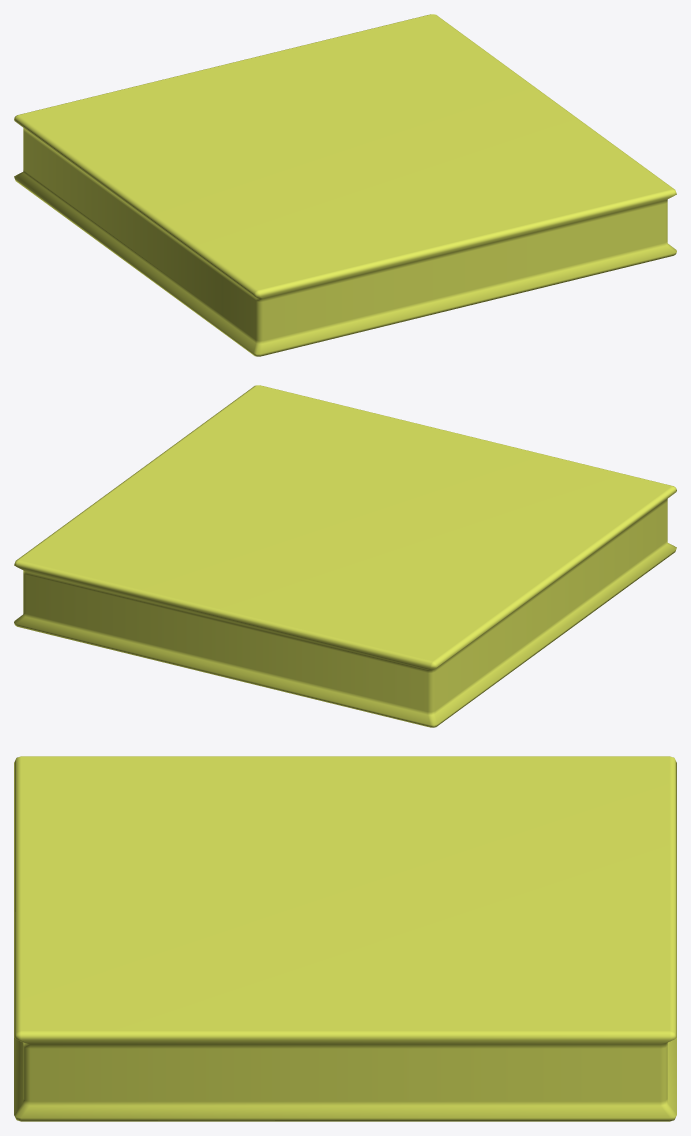
File: FM_BB_Clock_Tower_Base_04_001.fbx
3 renders of one model, top to bottom at view 1: azimuth 30°, elevation 25°; view 2: azimuth 150°, elevation 25°; view 3: azimuth 270°, elevation 25°, orthographic. The views are drawn at different scales.
Parts seen in each view (by area): view 1: FM_BB_Clock_Tower_Base_04_001; view 2: FM_BB_Clock_Tower_Base_04_001; view 3: FM_BB_Clock_Tower_Base_04_001.
Boxes of the visible parts, <box> form: FM_BB_Clock_Tower_Base_04_001: <box>14,14,676,356</box>; FM_BB_Clock_Tower_Base_04_001: <box>14,385,676,727</box>; FM_BB_Clock_Tower_Base_04_001: <box>14,756,676,1121</box>.
Size of the model in its own units: 8.51 by 1.28 by 8.51.
